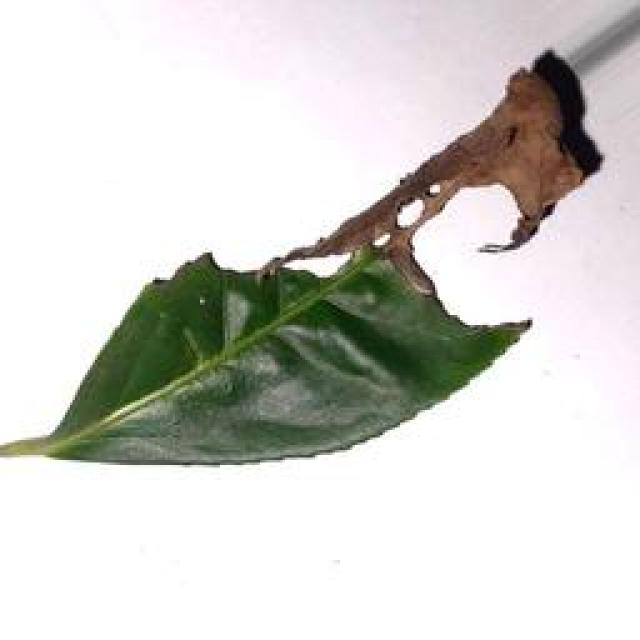Brown Blight: (6, 55, 583, 474)
